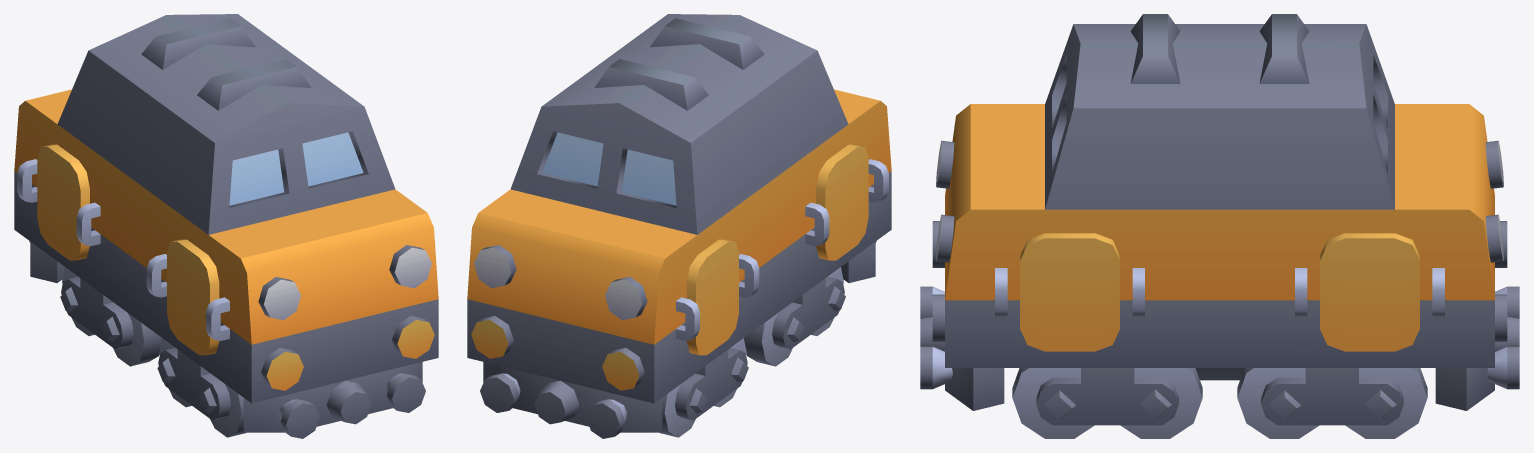
Rendered from k-train-train-diesel-a.glb.
The picture shows the model from 3 angles, left to right: view 1: azimuth 30°, elevation 25°; view 2: azimuth 150°, elevation 25°; view 3: azimuth 270°, elevation 25°; orthographic projection. The views are drawn at different scales.
Parts seen in each view (by area): view 1: train-diesel-a, wheels-back, wheels-front; view 2: train-diesel-a, wheels-front, wheels-back; view 3: train-diesel-a, wheels-front, wheels-back.
Part boxes in pixels (bbox=[...]): train-diesel-a: bbox=[14, 14, 438, 438]; wheels-back: bbox=[60, 267, 161, 366]; wheels-front: bbox=[157, 338, 246, 437]; train-diesel-a: bbox=[467, 14, 891, 438]; wheels-front: bbox=[744, 267, 845, 366]; wheels-back: bbox=[659, 338, 748, 437]; train-diesel-a: bbox=[920, 14, 1519, 410]; wheels-front: bbox=[1012, 368, 1202, 438]; wheels-back: bbox=[1237, 368, 1427, 438].
Bounding box in the file's own units: 1.2 × 1.6 × 2.4.
1 material, 1 textured.
